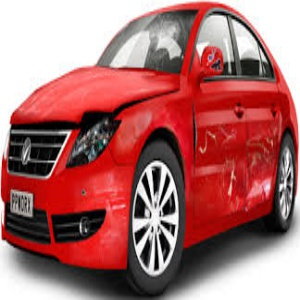door_scratch: (194, 114, 279, 226)
